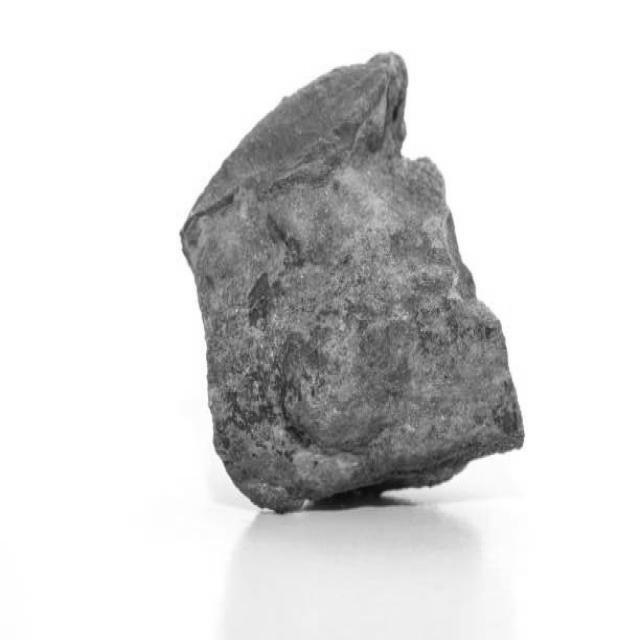Stone: (182, 54, 522, 511)
